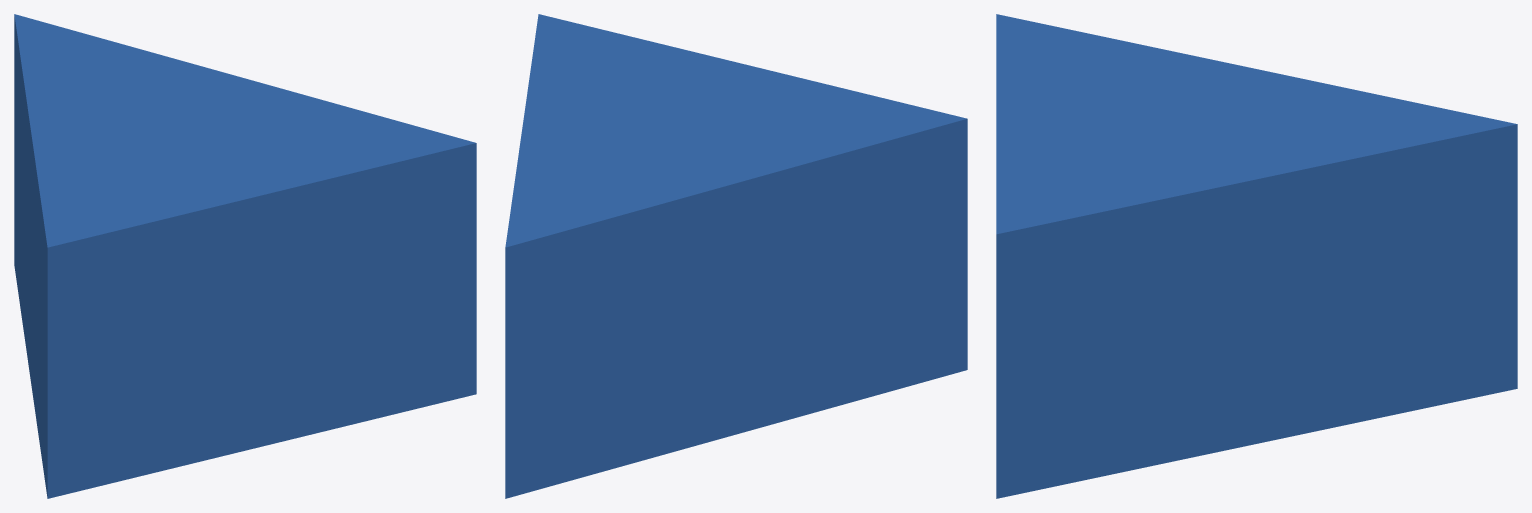
The model's file is SHP0110005.fbx.
3 views of the same model, side by side, from view 1: azimuth 30°, elevation 25°; view 2: azimuth 150°, elevation 25°; view 3: azimuth 270°, elevation 25° (orthographic). The views are drawn at different scales.
Visible parts, largest first — view 1: smSHP0110005; view 2: smSHP0110005; view 3: smSHP0110005.
Boxes of the visible parts, box(x1,y1,x2,y2) form: smSHP0110005: box(14, 14, 476, 498); smSHP0110005: box(505, 14, 967, 498); smSHP0110005: box(996, 14, 1517, 498).
Size of the model in its own units: 80.51 by 45.06 by 80.51.
1 material, 1 textured.
